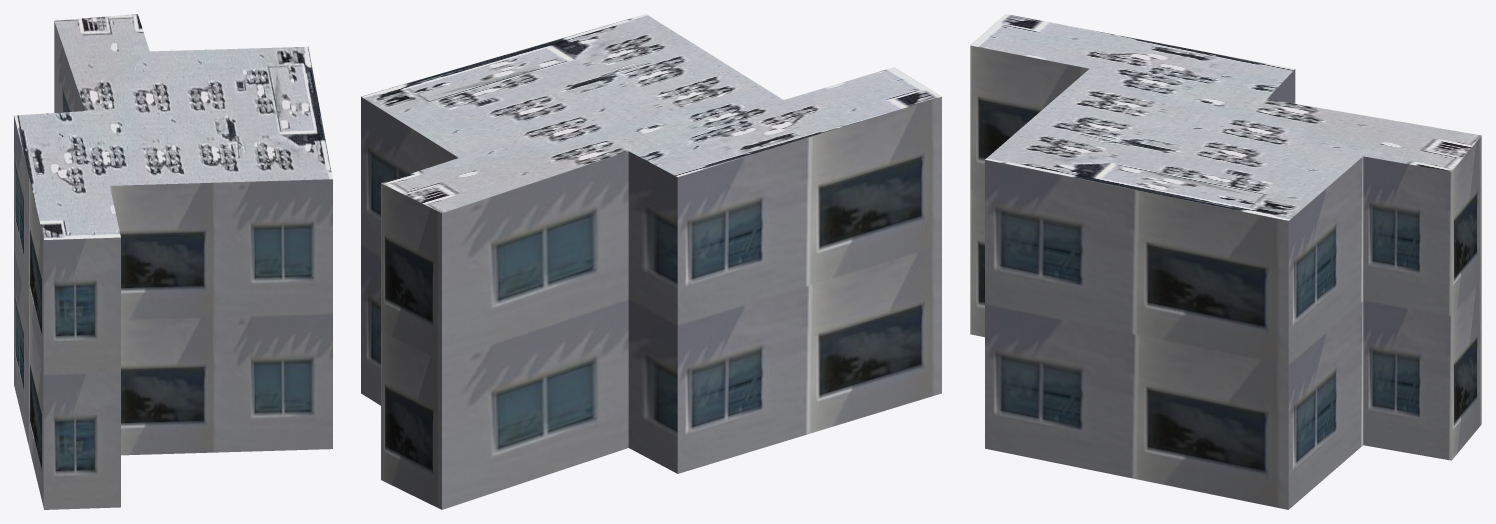
Rendered from ResTex__892.fbx.
3 views of the same model, side by side, from view 1: azimuth 30°, elevation 25°; view 2: azimuth 150°, elevation 25°; view 3: azimuth 270°, elevation 25° (orthographic). The views are drawn at different scales.
Visible parts, largest first — view 1: CityEngineMaterial_10_m, CityEngineMaterial_4_m; view 2: CityEngineMaterial_10_m, CityEngineMaterial_4_m; view 3: CityEngineMaterial_10_m, CityEngineMaterial_4_m.
Boxes of the visible parts, box(x1,y1,x2,y2) form: CityEngineMaterial_10_m: box(14, 21, 332, 509); CityEngineMaterial_4_m: box(14, 14, 332, 239); CityEngineMaterial_10_m: box(361, 97, 941, 509); CityEngineMaterial_4_m: box(361, 14, 941, 212); CityEngineMaterial_10_m: box(970, 45, 1481, 509); CityEngineMaterial_4_m: box(970, 14, 1481, 220).
Size of the model in its own units: 9.22 by 6 by 9.63.
Materials: 2 (2 with a texture image).
